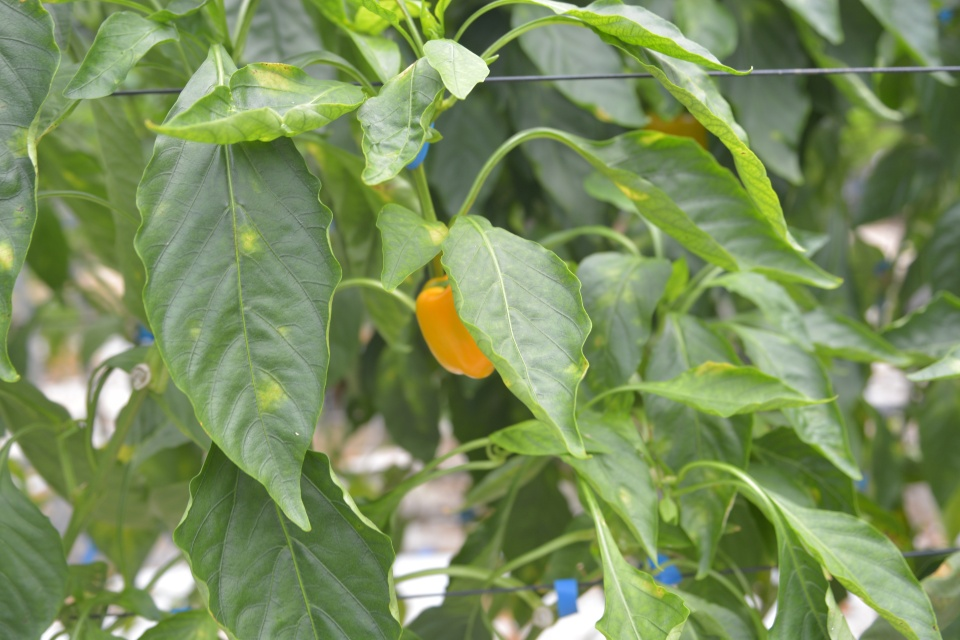fruit: (412, 272, 496, 379)
